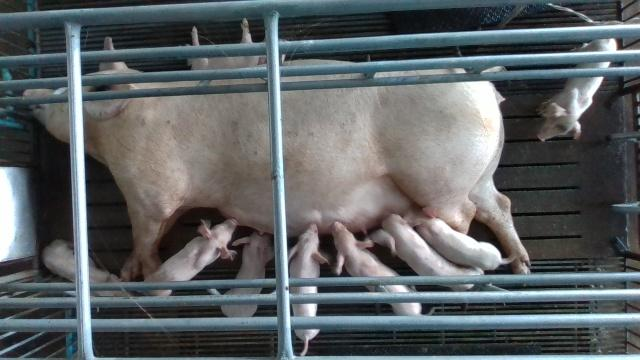piglet: (371, 214, 484, 291), (536, 38, 617, 142), (333, 221, 422, 315), (143, 218, 238, 296), (416, 206, 517, 270), (289, 223, 329, 356), (185, 18, 288, 67), (221, 232, 275, 318), (42, 240, 123, 283)
sow-sleep-lactate: (24, 37, 532, 286)
